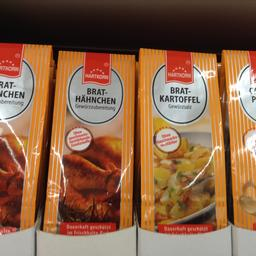spices: (39, 46, 134, 234), (136, 44, 225, 234), (0, 41, 48, 231)
